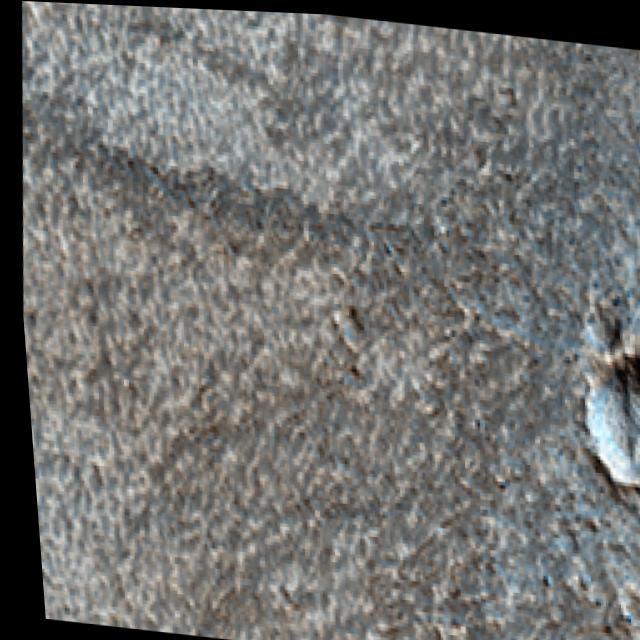Crater: (517, 109, 640, 580)
